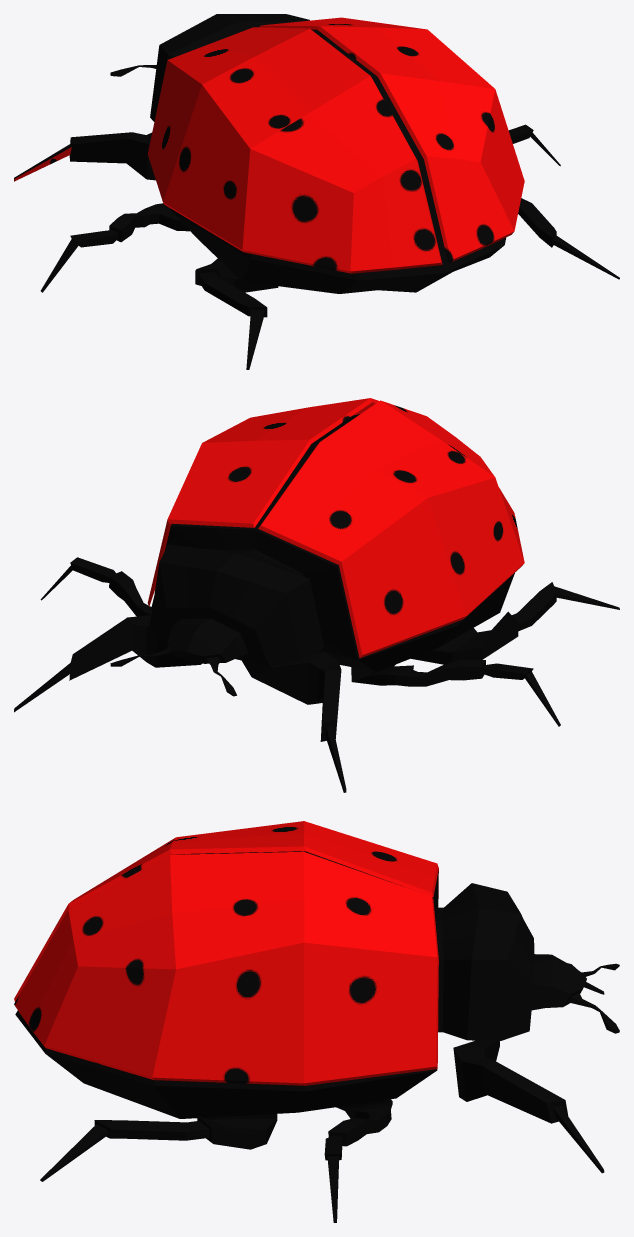
The model's file is SM_Ladybug.fbx.
3 views of the same model, one above another, from view 1: azimuth 30°, elevation 25°; view 2: azimuth 150°, elevation 25°; view 3: azimuth 270°, elevation 25° (orthographic). The views are drawn at different scales.
Parts seen in each view (by area): view 1: SM_Ladybug_LOD0; view 2: SM_Ladybug_LOD0; view 3: SM_Ladybug_LOD0.
Boxes of the visible parts, box(x1,y1,x2,y2) form: SM_Ladybug_LOD0: box(14, 14, 619, 369); SM_Ladybug_LOD0: box(14, 398, 619, 792); SM_Ladybug_LOD0: box(14, 821, 619, 1222).
Bounding box in the file's own units: 431 × 169 × 395.
